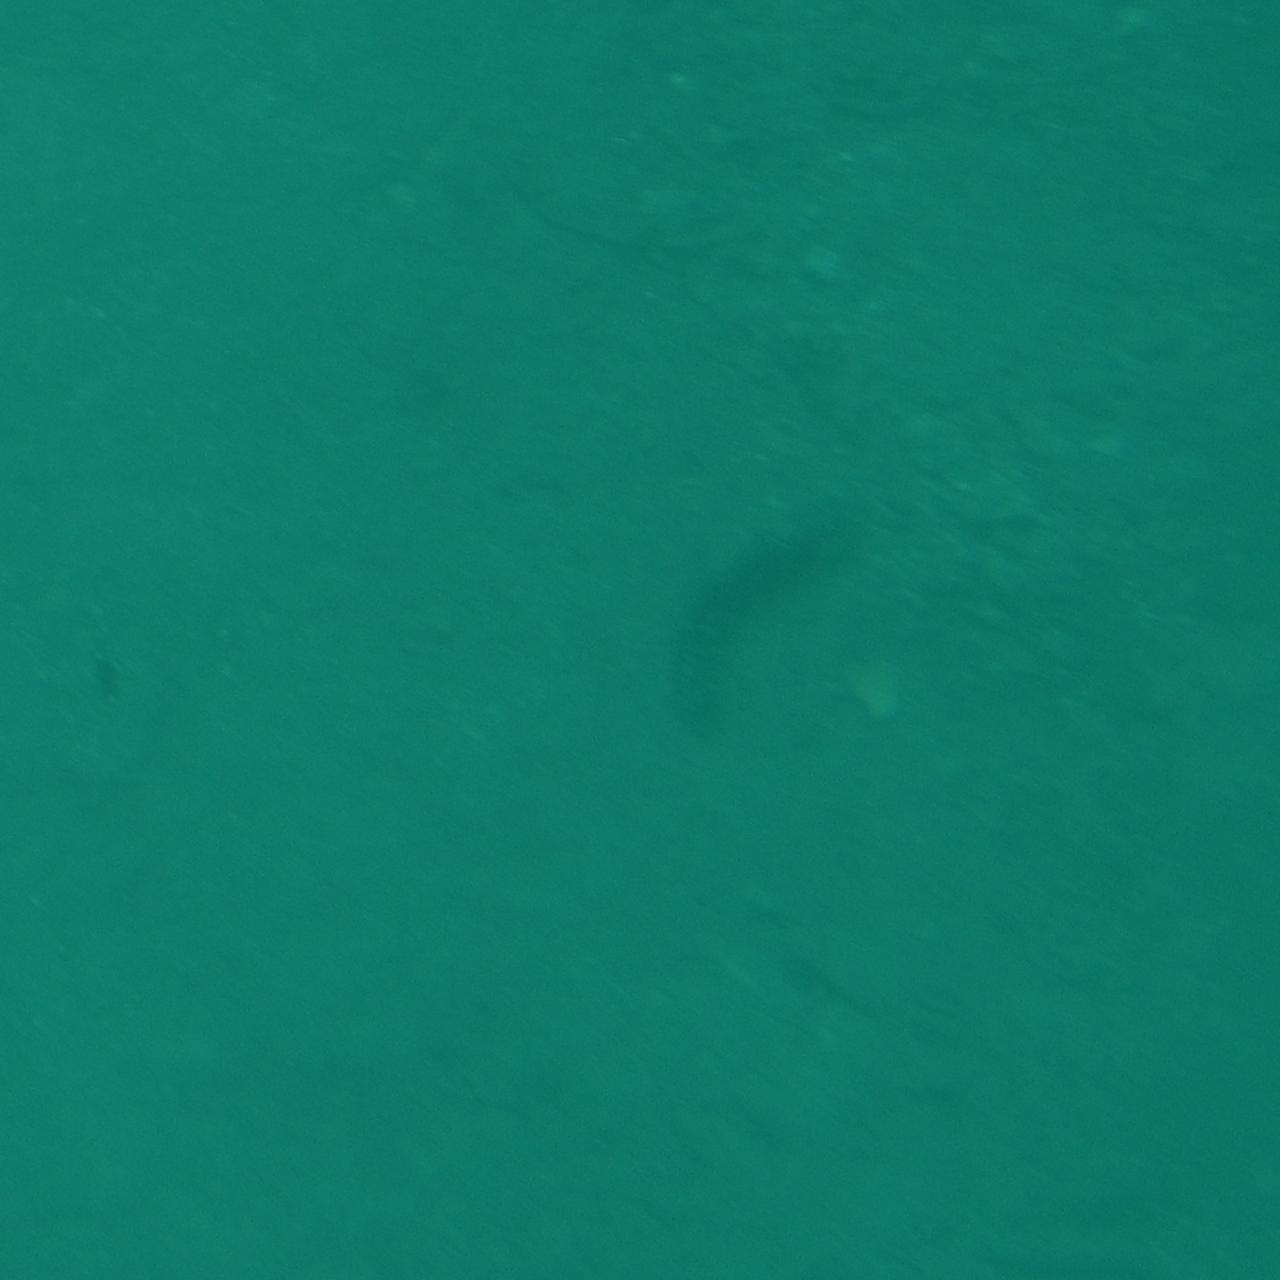Holothuria tubulosa: (644, 490, 894, 790)
